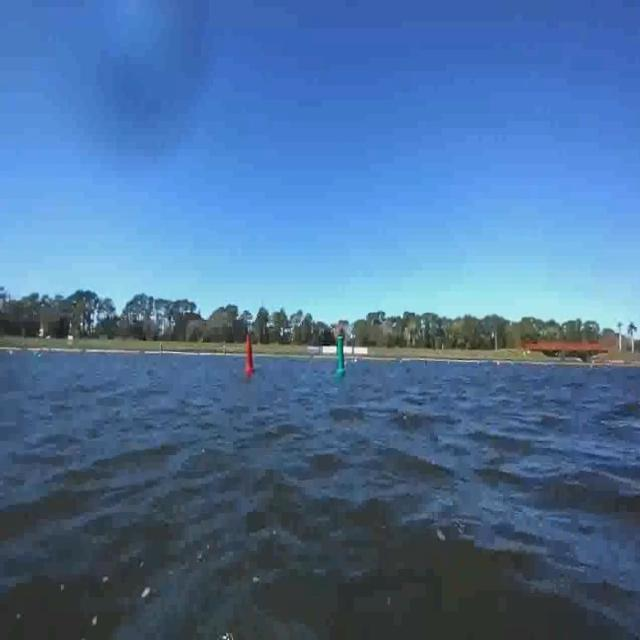green-column-buoy: (332, 329, 351, 375)
red-column-buoy: (242, 330, 260, 380)
